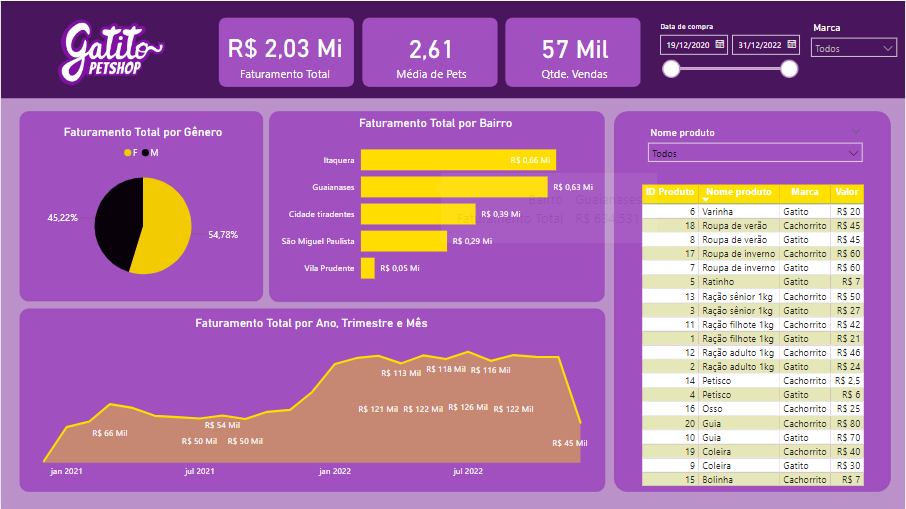

What the dashboard file says about the page in this screenshot:
{"tool":"powerbi","page":{"name":"Indicador Desktop","canvas":[1280,720],"ordinal":0},"visuals":[{"type":"card","fields":{"Values":["Avg(Clientes.Pets)"]},"box":[513.1,24.1,194.2,102],"z":0},{"type":"card","fields":{"Values":["Sum(Vendas.Quantidade)"]},"box":[717.2,24.1,191.3,102],"z":1000},{"type":"card","fields":{"Values":["Vendas.Faturamento Total"]},"box":[303.3,22.7,198.4,103.5],"z":2000},{"type":"pieChart","fields":{"Category":["Clientes.Gênero"],"Y":["Vendas.Faturamento Total"]},"box":[32.6,175.7,337.3,238.1],"z":3000},{"type":"clusteredBarChart","fields":{"Category":["Clientes.Bairro"],"Y":["Vendas.Faturamento Total"]},"box":[384,162.4,463.8,251.9],"z":4000},{"type":"stackedAreaChart","fields":{"Category":["Vendas.Data de compra.Variation.Hierarquia de datas.Ano","Vendas.Data de compra.Variation.Hierarquia de datas.Trimestre","Vendas.Data de compra.Variation.Hierarquia de datas.Mês","Vendas.Data de compra.Variation.Hierarquia de datas.Dia"],"Y":["Vendas.Faturamento Total"]},"box":[33,445.9,814.8,238.1],"z":5000},{"type":"slicer","fields":{"Values":["Produtos.Nome produto"]},"box":[907.1,173,324.2,82.3],"z":6000},{"type":"tableEx","fields":{"Values":["Produtos.ID Produto","Produtos.Nome produto","Produtos.Marca","Produtos.Valor"]},"box":[903.2,255.5,331.6,438.7],"z":7000},{"type":"slicer","fields":{"Values":["Produtos.Marca"]},"box":[1138.1,24.5,141.9,67.1],"z":8000},{"type":"slicer","fields":{"Values":["Vendas.Data de compra"]},"box":[921.3,24.5,216.8,101.9],"z":9000}]}

Visuals, with their boxes in screenshot pixels (x1, y1, x2, y2), scaled from the page's 1280x720 canvas onto the 906x509 screenshot:
card - Avg(Clientes.Pets): [left=363, top=17, right=501, bottom=89]
card - Sum(Vendas.Quantidade): [left=508, top=17, right=643, bottom=89]
card - Vendas.Faturamento Total: [left=215, top=16, right=355, bottom=89]
pieChart - Clientes.Gênero x Vendas.Faturamento Total: [left=23, top=124, right=262, bottom=293]
clusteredBarChart - Clientes.Bairro x Vendas.Faturamento Total: [left=272, top=115, right=600, bottom=293]
stackedAreaChart - Vendas.Data de compra.Variation.Hierarquia de datas.Ano x Vendas.Data de compra.Variation.Hierarquia de datas.Trimestre: [left=23, top=315, right=600, bottom=484]
slicer - Produtos.Nome produto: [left=642, top=122, right=872, bottom=180]
tableEx - Produtos.ID Produto x Produtos.Nome produto: [left=639, top=181, right=874, bottom=491]
slicer - Produtos.Marca: [left=806, top=17, right=905, bottom=65]
slicer - Vendas.Data de compra: [left=652, top=17, right=806, bottom=89]
